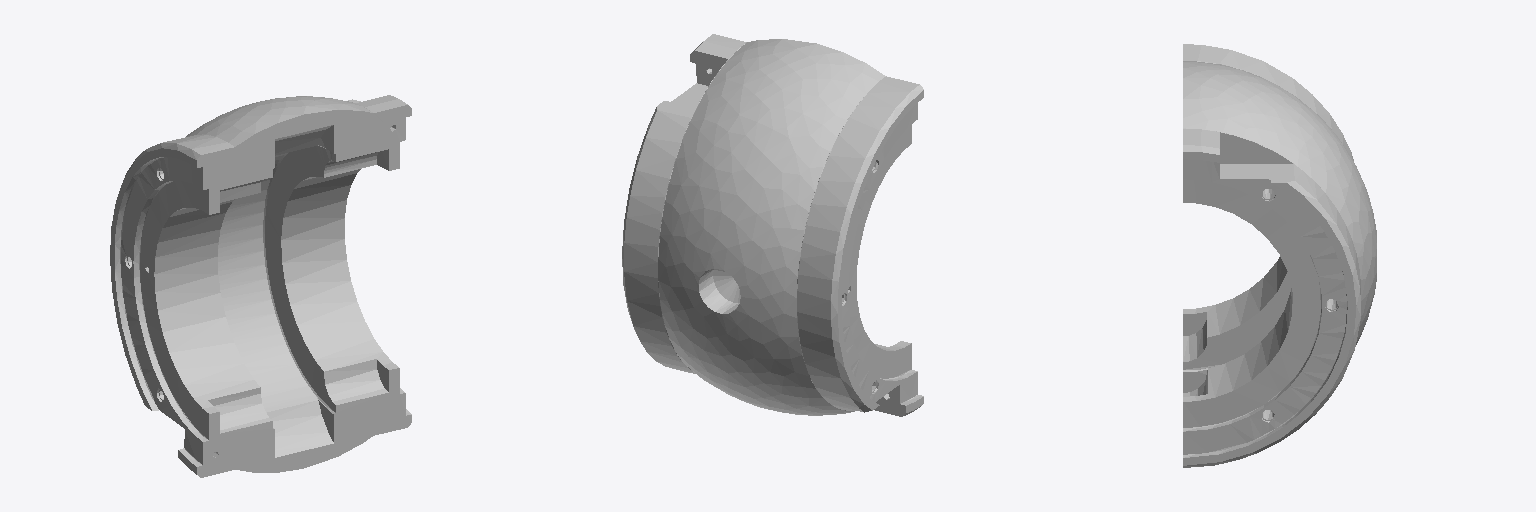
File: upper bearing liner.obj
The picture shows the model from 3 angles: view 1: azimuth 30°, elevation 25°; view 2: azimuth 150°, elevation 25°; view 3: azimuth 270°, elevation 25°; orthographic projection.
Parts seen in each view (by area): view 1: imagetostl_mesh0; view 2: imagetostl_mesh0; view 3: imagetostl_mesh0.
Part boxes in pixels (x1,y1,x2,y2): imagetostl_mesh0: (110, 95, 411, 477); imagetostl_mesh0: (622, 34, 923, 416); imagetostl_mesh0: (1183, 44, 1376, 467).
Bounding box in the file's own units: 102 × 160 × 79.42.